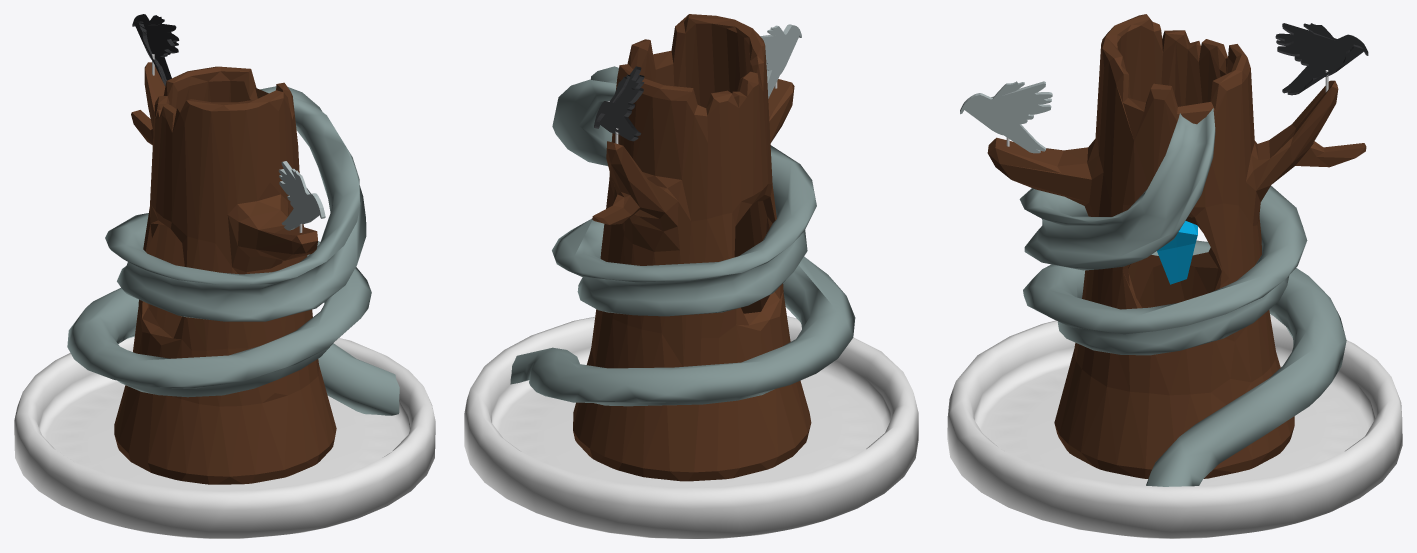
Rendered from fuente.fbx.
3 views of the same model, side by side, from view 1: azimuth 30°, elevation 25°; view 2: azimuth 150°, elevation 25°; view 3: azimuth 270°, elevation 25° (orthographic). The views are drawn at different scales.
Visible parts, largest first — view 1: Árbol, Base, Tobogan, Pajaro balnco, Pajaro negro; view 2: Árbol, Base, Tobogan, Pajaro negro, Pajaro balnco; view 3: Árbol, Base, Tobogan, Pajaro negro, Pajaro balnco, Gema.
Part boxes in pixels (x1,y1,x2,y2): Árbol: (114,62,336,484); Base: (14,336,435,538); Tobogan: (67,86,399,415); Pajaro balnco: (278,161,325,232); Pajaro negro: (132,14,179,85); Árbol: (573,14,811,481); Base: (464,316,918,538); Tobogan: (510,66,855,406); Pajaro negro: (594,66,644,143); Pajaro balnco: (760,24,801,98); Árbol: (987,14,1366,478); Base: (947,315,1402,538); Tobogan: (1019,108,1346,486); Pajaro negro: (1275,23,1368,95); Pajaro balnco: (960,81,1052,153); Gema: (1157,221,1197,284).
Size of the model in its own units: 706 by 722 by 706.
